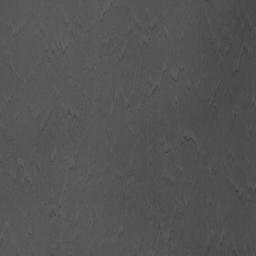Silk spot: (52, 40, 68, 55), (144, 84, 161, 98), (180, 136, 196, 146), (68, 110, 80, 123), (113, 93, 123, 106), (246, 186, 256, 197), (146, 24, 158, 32), (49, 210, 60, 218)
